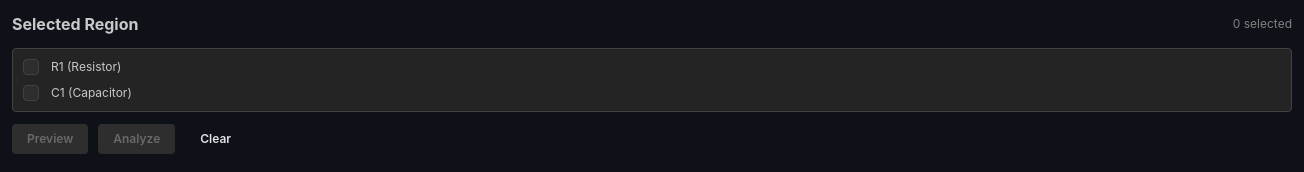
it: SelectedRegionPanel › Clear button resets selection
Click the checkbox labelled "R1 (Resistor)" at {"x": 31, "y": 67}, box [23, 59, 39, 75]
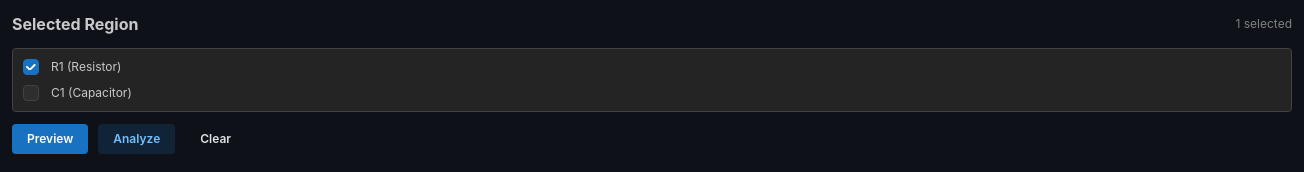
Click the button "Clear" at {"x": 216, "y": 139}, box [185, 124, 246, 154]
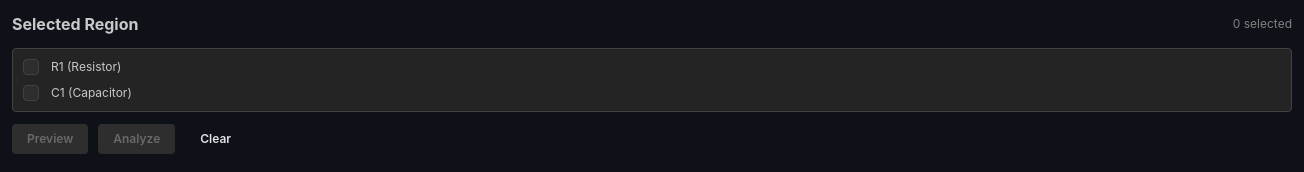
Now the text "0 selected" is shown, box [1233, 16, 1292, 32]
